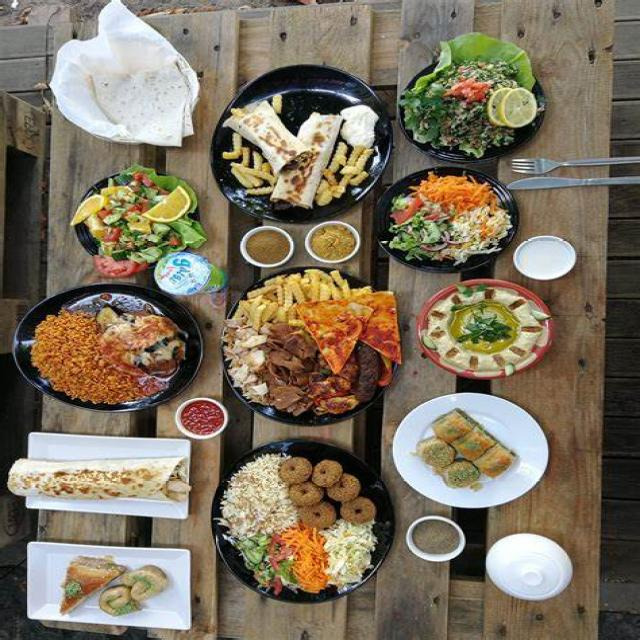com: (225, 445, 368, 604), (35, 297, 168, 416)
do chien: (225, 279, 390, 419), (403, 402, 544, 499)
do cuon: (211, 76, 378, 218), (16, 448, 179, 526)
do ngot: (413, 292, 550, 371)
do song: (19, 554, 176, 624)
rau thap cam: (399, 42, 540, 161), (384, 173, 512, 274), (76, 169, 195, 252)
